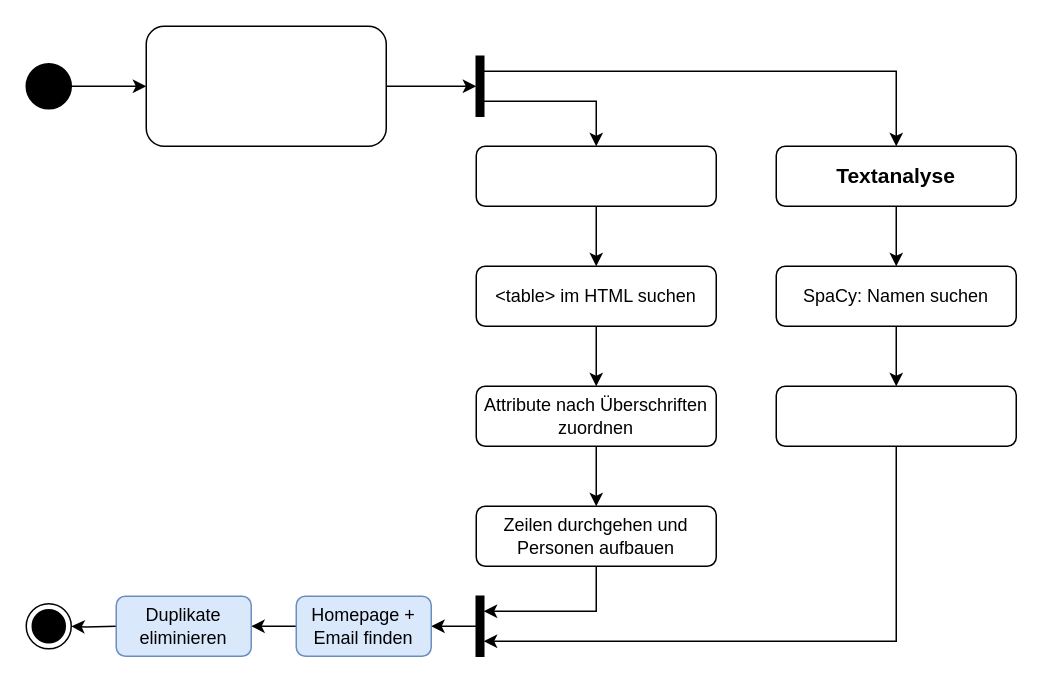
The diagram is 1043 pixels wide and 683 high, and some of its shapes have lost their labels. The shapes that lost their labels are listed below. From the top down, each one's centre as x and y in pixels, then its label:
pixel 265 85: Suche nach Seitentitel Team, Mitarbeiter, Staff, Personen, Members, ...
pixel 595 175: Tabellenanalyse
pixel 895 415: Akademische Titel suchen
